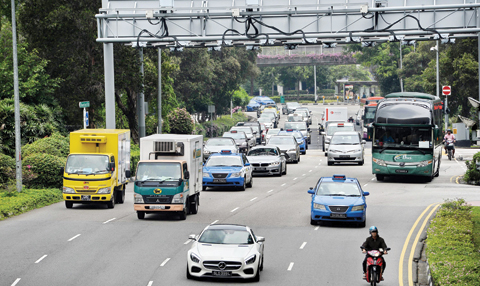car: (132, 158, 205, 223), (188, 224, 267, 282), (56, 148, 126, 211), (307, 175, 370, 229), (202, 153, 252, 191), (324, 131, 367, 167), (246, 145, 287, 177), (264, 134, 302, 165), (323, 121, 359, 148), (201, 137, 238, 161), (223, 131, 253, 151)
two_wheeler: (362, 229, 389, 282)
